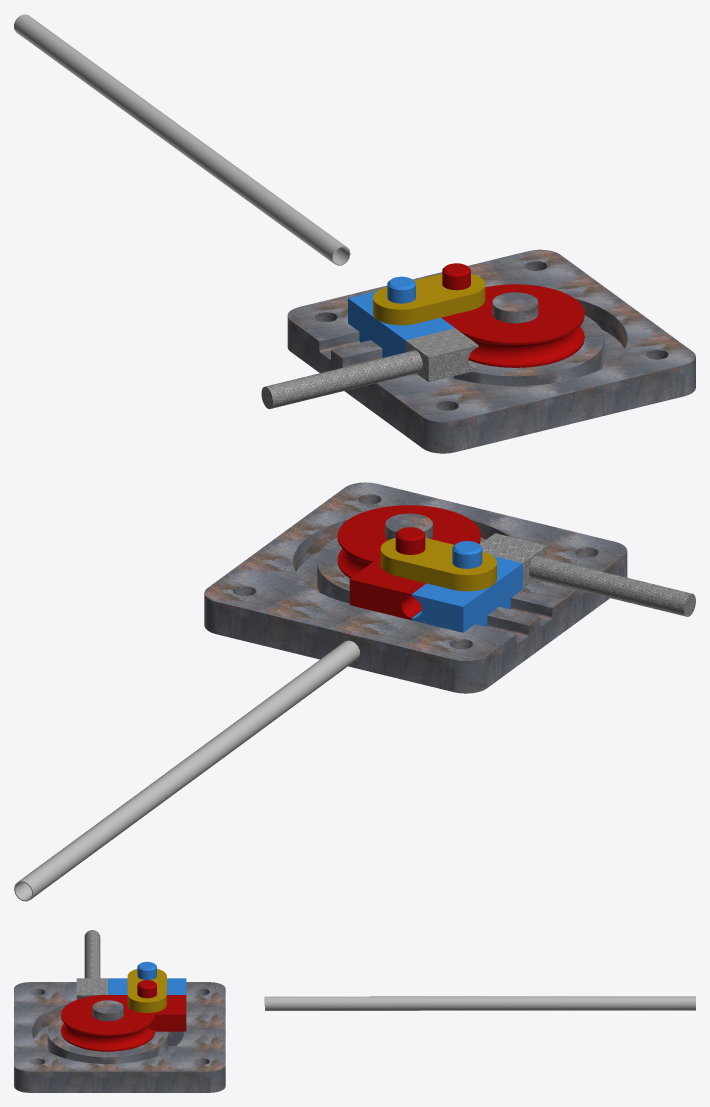
The picture shows the model from 3 angles, top to bottom: view 1: azimuth 30°, elevation 25°; view 2: azimuth 150°, elevation 25°; view 3: azimuth 270°, elevation 25°; orthographic projection. The views are drawn at different scales.
Visible parts, largest first — view 1: Base, Solid1, Bending Die, Lever, Clip, Clamp; view 2: Base, Solid1, Bending Die, Lever, Clamp, Clip; view 3: Base, Solid1, Bending Die, Lever, Clip, Clamp.
Part boxes in pixels (bbox=[...]): Base: bbox=[287, 249, 695, 453]; Solid1: bbox=[14, 14, 350, 265]; Bending Die: bbox=[441, 263, 584, 367]; Lever: bbox=[261, 328, 478, 408]; Clip: bbox=[373, 273, 485, 325]; Clamp: bbox=[348, 276, 454, 357]; Base: bbox=[204, 482, 627, 693]; Solid1: bbox=[14, 640, 359, 901]; Bending Die: bbox=[337, 505, 480, 620]; Lever: bbox=[479, 533, 695, 616]; Clamp: bbox=[411, 541, 522, 632]; Clip: bbox=[380, 538, 496, 591]; Base: bbox=[14, 982, 225, 1092]; Solid1: bbox=[264, 996, 695, 1010]; Bending Die: bbox=[61, 980, 186, 1051]; Lever: bbox=[76, 930, 107, 999]; Clip: bbox=[127, 969, 166, 1012]; Clamp: bbox=[108, 961, 186, 994].
Bounding box in the file's own units: 380 × 84 × 870.
Materials: 6 (2 with a texture image).
